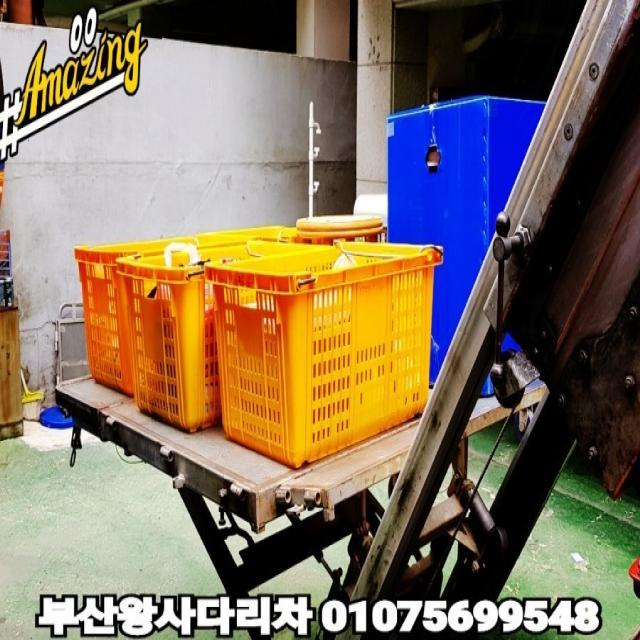basket: (203, 228, 465, 475), (116, 250, 222, 436)
